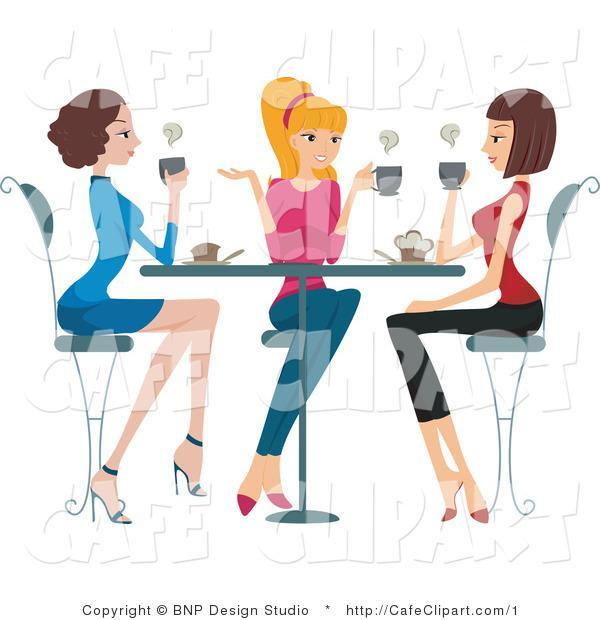chair: (3, 173, 136, 524), (465, 174, 599, 521)
diningtable: (131, 260, 469, 534)
person: (30, 86, 219, 524), (383, 88, 557, 532), (213, 75, 382, 516)
